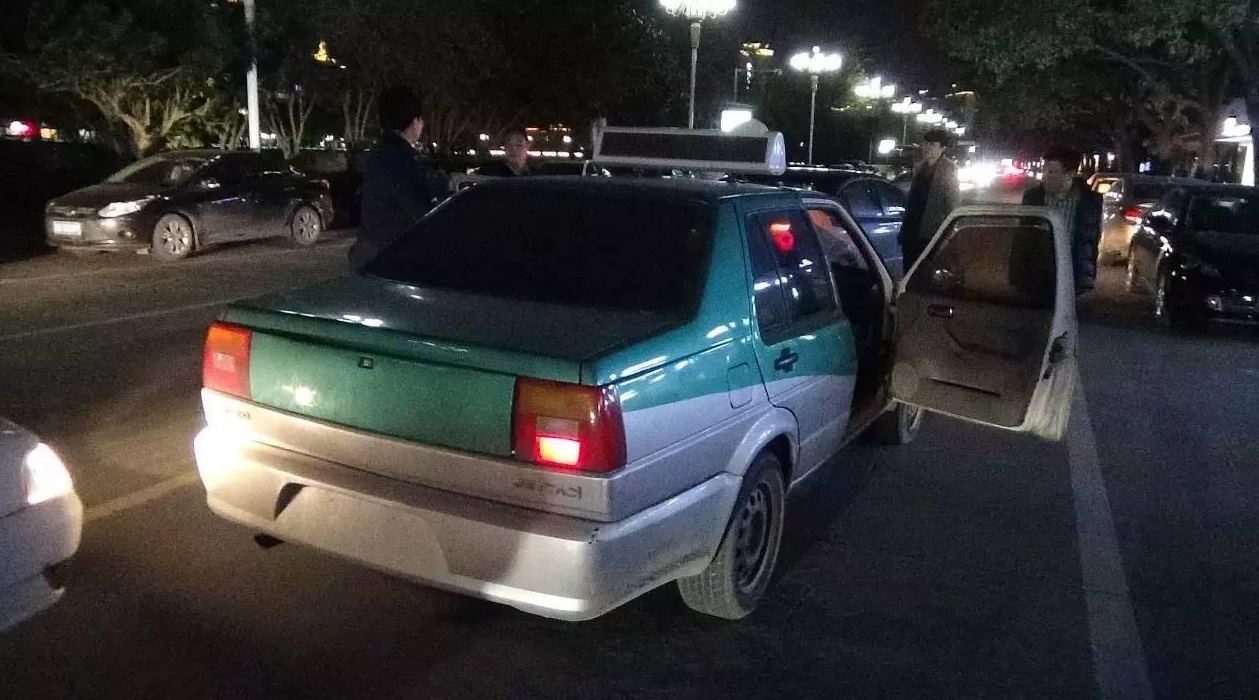family sedan: (44, 142, 346, 256)
taxi: (201, 133, 985, 621)
